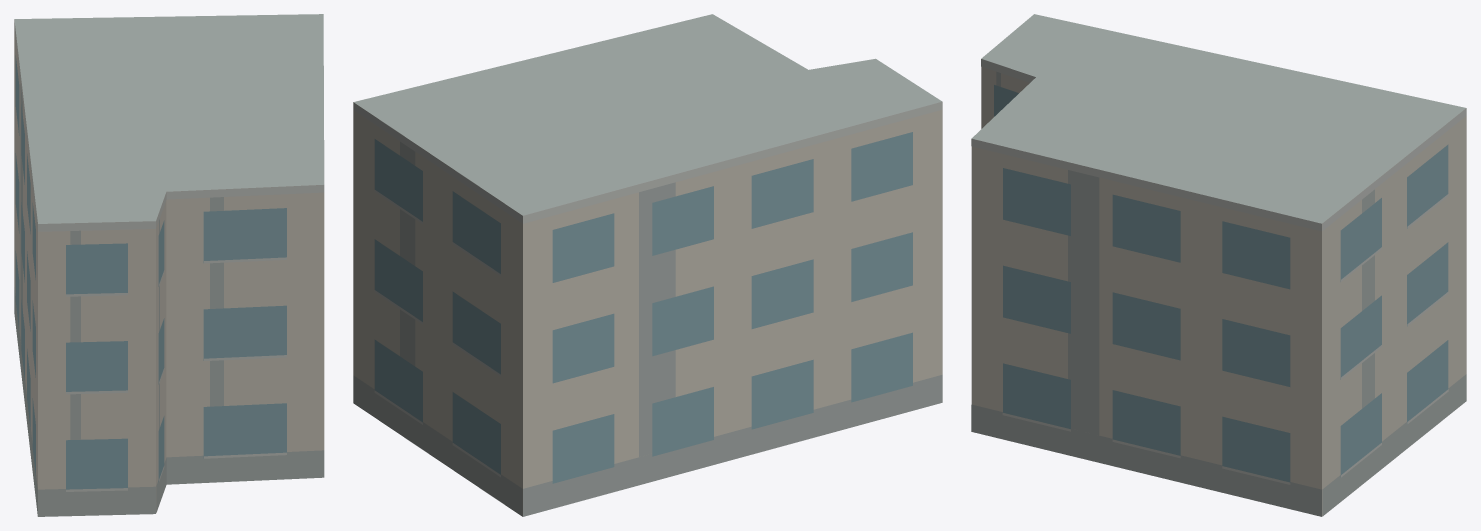
The model's file is survey-upis-33019535.glb.
3 views of the same model, side by side, from view 1: azimuth 30°, elevation 25°; view 2: azimuth 150°, elevation 25°; view 3: azimuth 270°, elevation 25° (orthographic). The views are drawn at different scales.
Parts seen in each view (by area): view 1: survey-upis-33019535.tmp; view 2: survey-upis-33019535.tmp; view 3: survey-upis-33019535.tmp.
Boxes of the visible parts, left/top/right/bottom form: survey-upis-33019535.tmp: left=14, top=14, right=324, bottom=516; survey-upis-33019535.tmp: left=353, top=14, right=942, bottom=516; survey-upis-33019535.tmp: left=971, top=14, right=1466, bottom=516.
Bounding box in the file's own units: 14.05 × 9.15 × 14.01.
